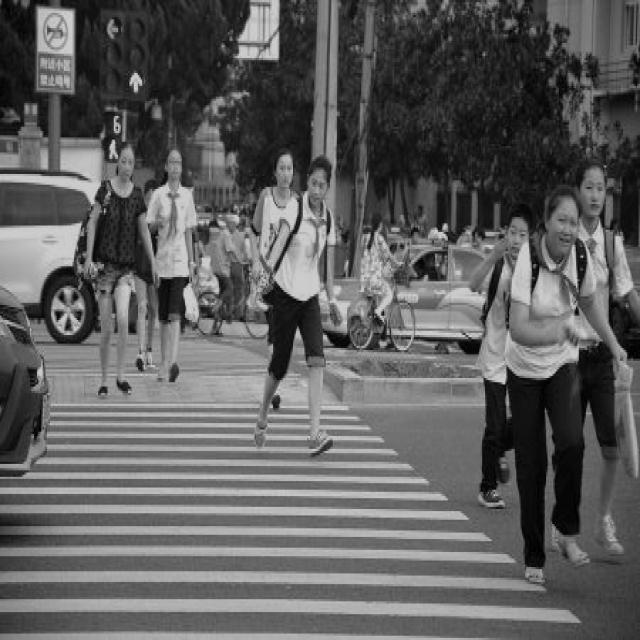non-fight: (501, 185, 630, 592), (250, 148, 338, 453), (72, 136, 146, 400)
